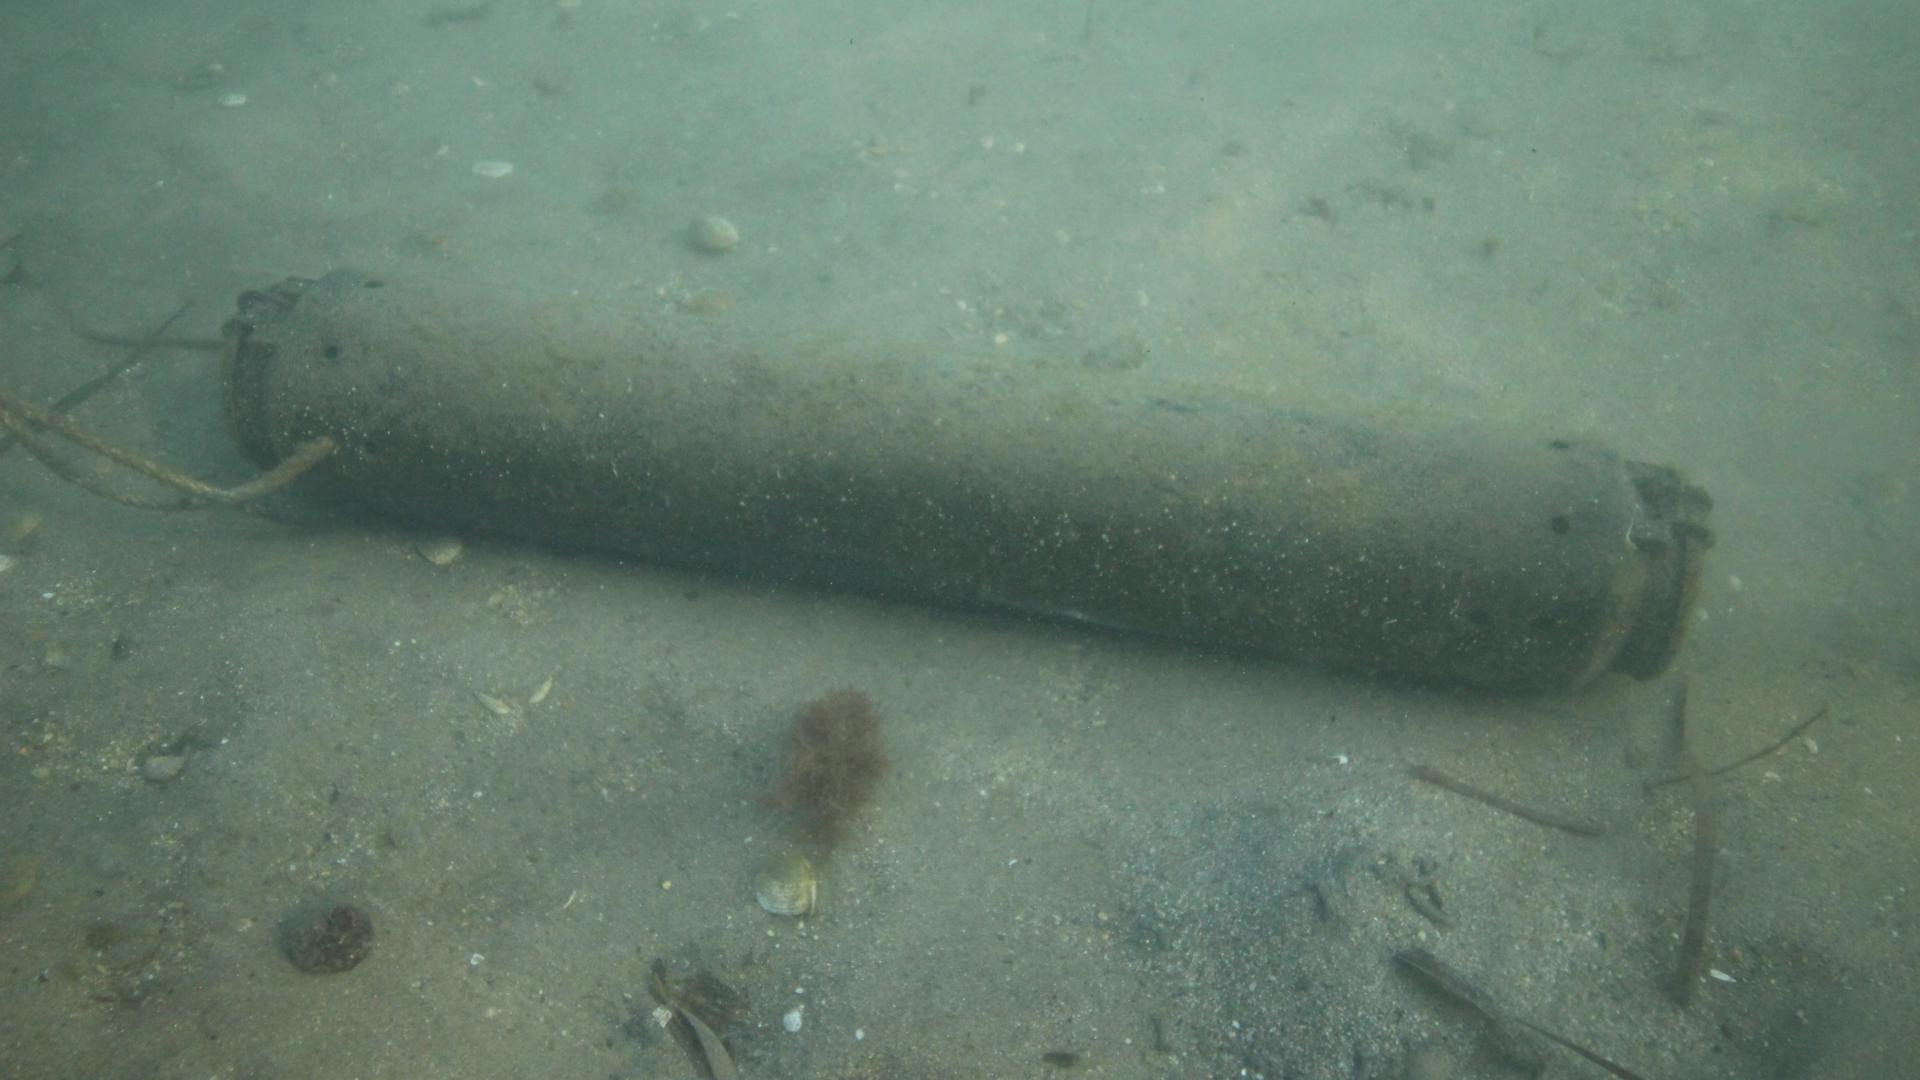eel fish trap: (216, 265, 1714, 695)
rope: (0, 380, 338, 512)
